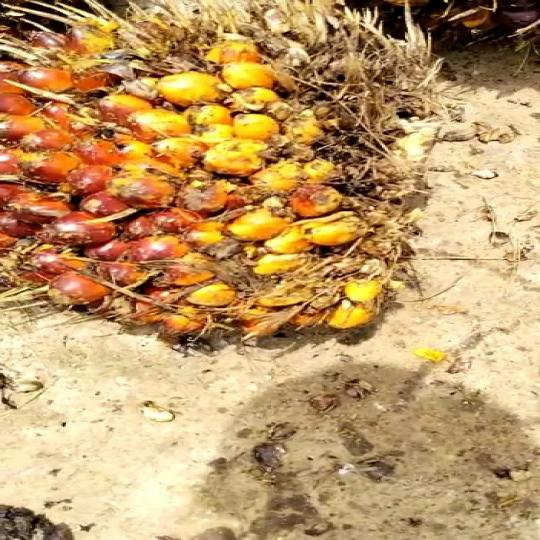masak: (0, 6, 477, 360)
